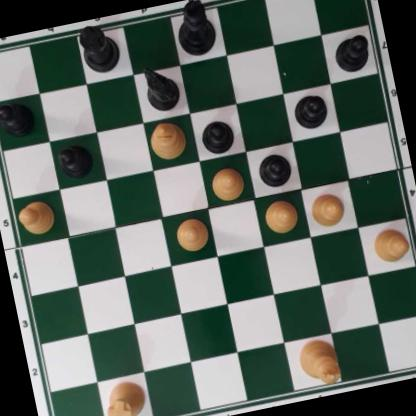black-king: (170, 0, 221, 61)
black-knight: (139, 63, 182, 113)
black-pawn: (331, 32, 374, 75), (196, 114, 237, 156), (54, 140, 96, 181), (290, 90, 331, 131), (254, 149, 294, 190), (0, 96, 37, 140)
black-rook: (75, 19, 125, 75)
white-bishop: (147, 116, 190, 165)
white-king: (295, 335, 344, 390)
white-pawn: (368, 223, 412, 267), (14, 196, 57, 238), (206, 163, 249, 204), (307, 188, 348, 230), (261, 195, 300, 237), (172, 216, 212, 254)
white-rook: (101, 377, 150, 416)
